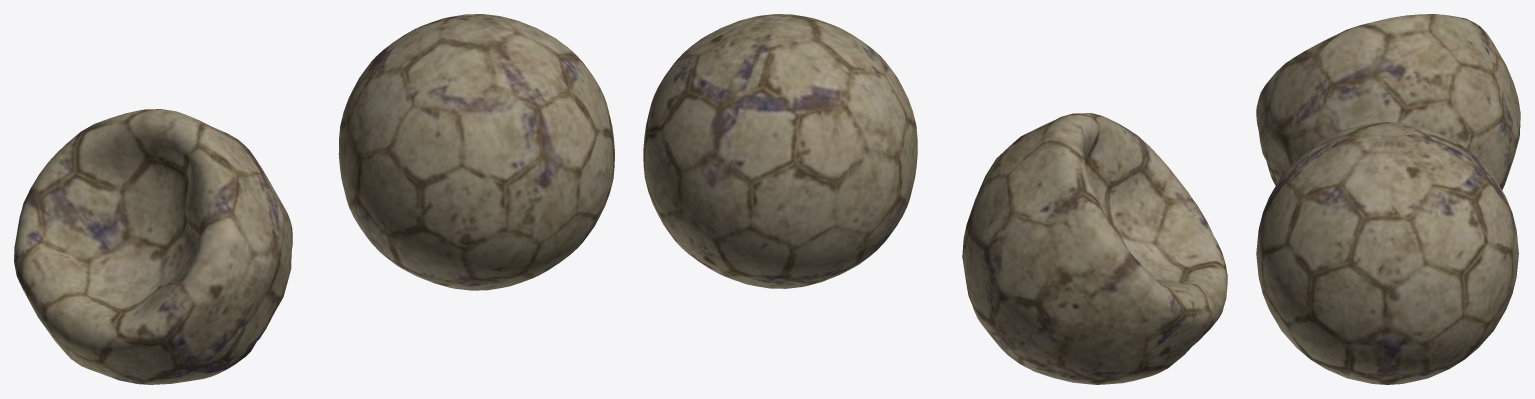
File: football.glb
3 views of the same model, side by side, from view 1: azimuth 30°, elevation 25°; view 2: azimuth 150°, elevation 25°; view 3: azimuth 270°, elevation 25° (orthographic). The views are drawn at different scales.
Parts seen in each view (by area): view 1: football_deflated; view 2: football_deflated; view 3: football_deflated.
Boxes of the visible parts, left/top/right/bottom form: football_deflated: left=14, top=14, right=614, bottom=384; football_deflated: left=643, top=14, right=1227, bottom=384; football_deflated: left=1256, top=14, right=1520, bottom=384.
Size of the model in its own units: 0.5089 by 0.2219 by 0.2222.
Materials: 1 (1 with a texture image).
